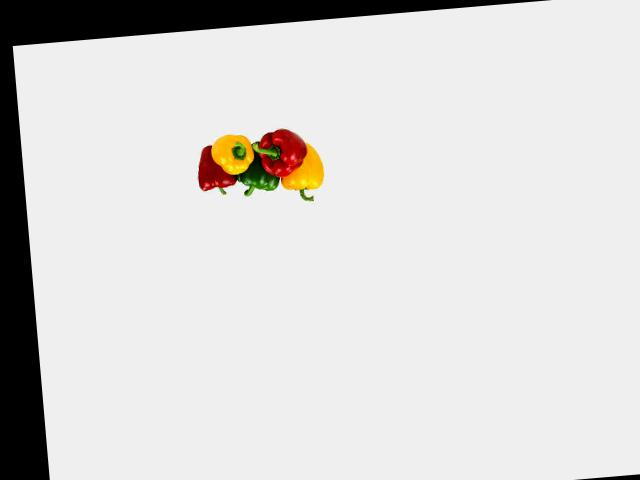bell_pepper: (193, 149, 237, 198)
